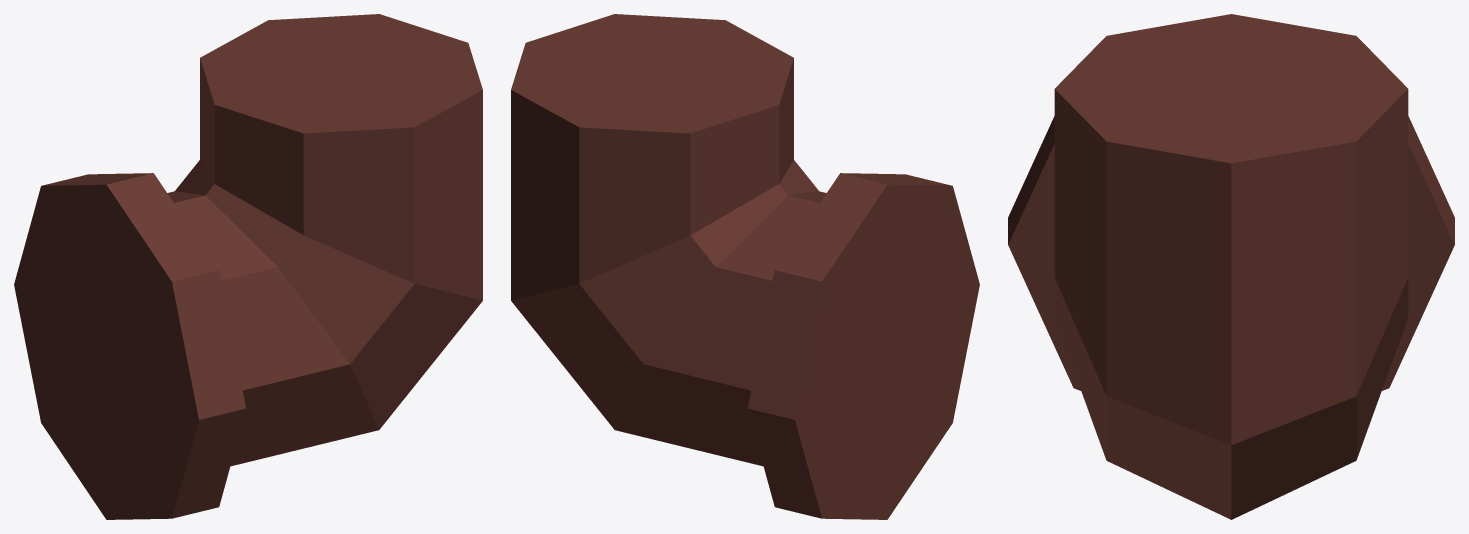
Rendered from SM_Gen_Bld_Pipe_Corner_01.glb.
3 renders of one model, left to right at view 1: azimuth 30°, elevation 25°; view 2: azimuth 150°, elevation 25°; view 3: azimuth 270°, elevation 25°, orthographic. The views are drawn at different scales.
Parts seen in each view (by area): view 1: SM_Gen_Bld_Pipe_Corner_01; view 2: SM_Gen_Bld_Pipe_Corner_01; view 3: SM_Gen_Bld_Pipe_Corner_01.
Part boxes in pixels (<box>): SM_Gen_Bld_Pipe_Corner_01: <box>14,14,482,519</box>; SM_Gen_Bld_Pipe_Corner_01: <box>511,14,979,519</box>; SM_Gen_Bld_Pipe_Corner_01: <box>1008,14,1454,519</box>.
Size of the model in its own units: 0.428 by 0.4395 by 0.379.
1 material, 1 textured.
